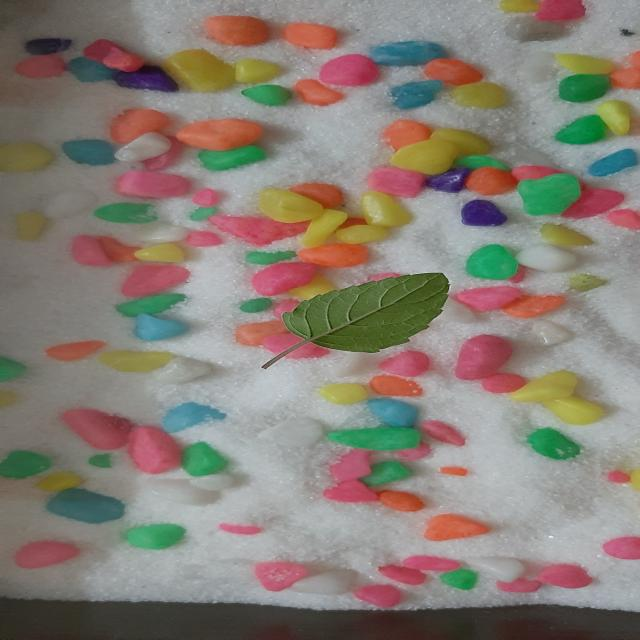tulsi: (263, 272, 450, 369)
